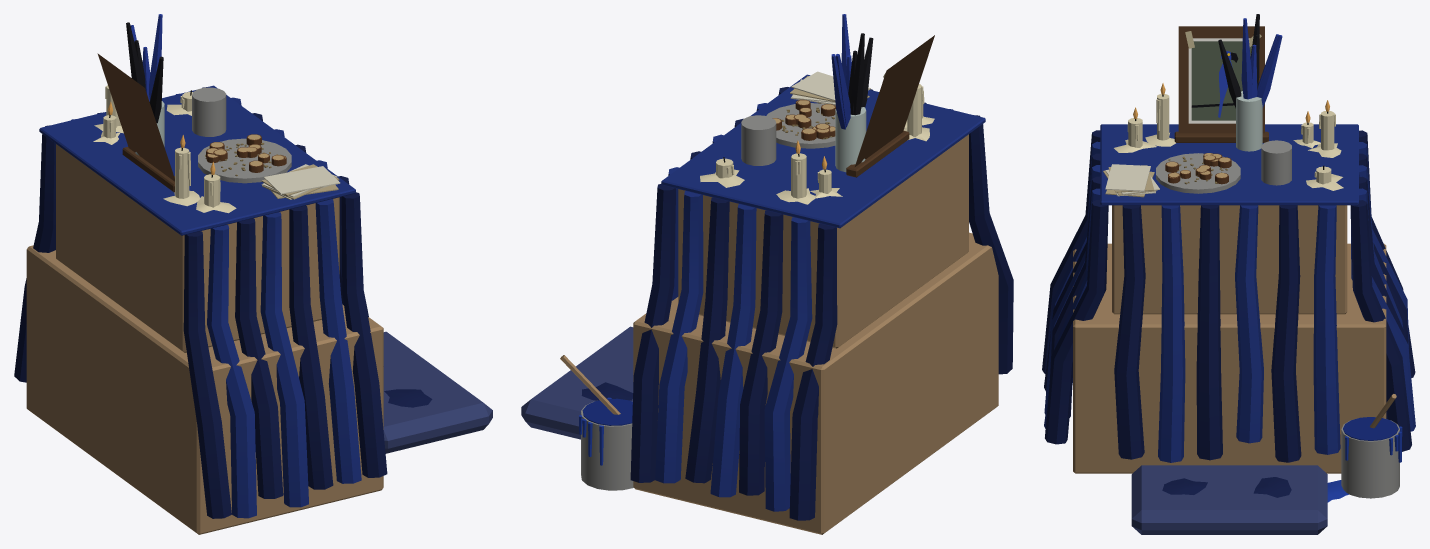
File: jerry_shrine.glb
3 renders of one model, left to right at view 1: azimuth 30°, elevation 25°; view 2: azimuth 150°, elevation 25°; view 3: azimuth 270°, elevation 25°, orthographic. The views are drawn at different scales.
Parts seen in each view (by area): view 1: teil0, teil1, teil2, teil28, teil15, teil7, teil3, teil23, teil13, teil4, teil8, teil14 (+1 smaller); view 2: teil0, teil1, teil2, teil7, teil28, teil15, teil3, teil14, teil12, teil13, teil4, teil24 (+2 smaller); view 3: teil0, teil1, teil2, teil28, teil7, teil15, teil17, teil3, teil14, teil12, teil23, teil29 (+5 smaller).
Boxes of the visible parts, x1,y1,x2,y2 form: teil0: (26,144,383,534); teil1: (39,85,361,518); teil2: (14,87,387,518); teil28: (383,331,492,453); teil15: (97,53,174,192); teil7: (192,87,291,183); teil3: (103,85,220,207); teil23: (261,164,340,199); teil13: (126,22,163,123); teil4: (93,104,236,213); teil8: (206,134,286,172); teil14: (130,14,162,101); teil0: (633,134,998,534); teil1: (655,74,985,511); teil2: (630,87,1013,520); teil7: (581,103,835,490); teil28: (521,326,633,439); teil15: (846,35,934,177); teil3: (716,84,924,198); teil14: (831,14,851,129); teil12: (835,107,866,172); teil13: (848,33,873,115); teil4: (700,116,934,204); teil24: (582,398,632,425); teil0: (1073,205,1386,473); teil1: (1044,124,1415,462); teil2: (1042,130,1415,462); teil28: (1131,465,1327,534); teil7: (1156,140,1399,498); teil15: (1174,26,1268,142); teil17: (1191,41,1251,120); teil3: (1127,94,1335,184); teil14: (1241,18,1282,108); teil12: (1236,91,1262,151); teil23: (1105,164,1159,196); teil29: (1162,477,1291,497).
Size of the model in its own units: 0.9019 by 1.12 by 0.9542.
